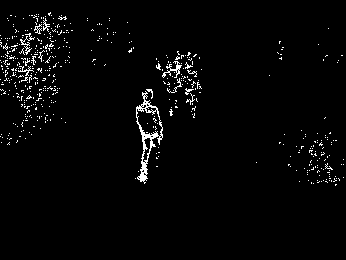person: (132, 86, 163, 185)
